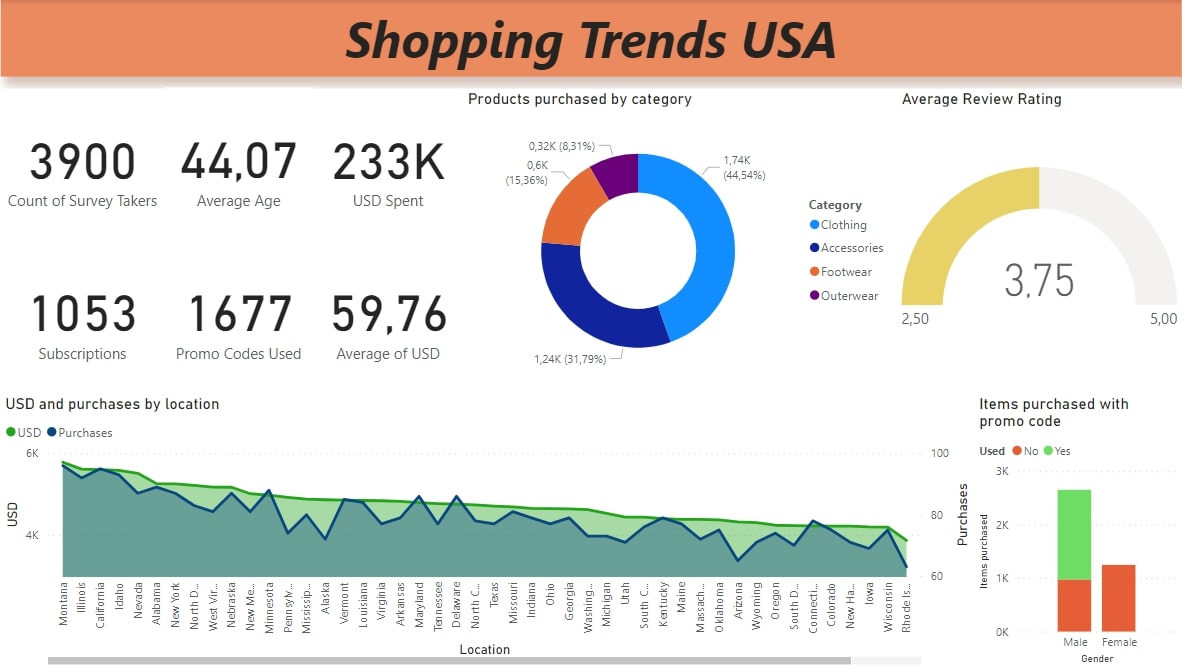

What the dashboard file says about the page in this screenshot:
{"tool":"powerbi","page":{"name":"Página 1","canvas":[1280,720],"ordinal":0},"visuals":[{"type":"textbox","box":[9.6,0,1270.7,82.3],"z":0},{"type":"card","fields":{"Values":["CountNonNull(shopping_trends_updated.Customer ID)"]},"box":[9.4,95.5,176.2,164.1],"z":1000},{"type":"card","fields":{"Values":["Avg(shopping_trends_updated.Age)"]},"box":[185.6,94.1,160,165.4],"z":2000},{"type":"card","fields":{"Values":["Sum(shopping_trends_updated.Purchase Amount (USD))"]},"box":[345.6,95.5,161.4,164.1],"z":3000},{"type":"donutChart","title":"Products purchased by category","fields":{"Category":["shopping_trends_updated.Category"],"Y":["CountNonNull(shopping_trends_updated.Category)"]},"box":[507,95.5,466.7,328.1],"z":4000},{"type":"gauge","title":"Average Review Rating","fields":{"Y":["Avg(shopping_trends_updated.Review Rating)"],"MinValue":["Min(shopping_trends_updated.Review Rating)1"],"MaxValue":["Max(shopping_trends_updated.Review Rating)2"]},"box":[973.7,95.5,306.6,328.1],"z":5000},{"type":"columnChart","title":"Items purchased with promo code","fields":{"Category":["shopping_trends_updated.Gender"],"Y":["CountNonNull(shopping_trends_updated.Item Purchased)"],"Series":["shopping_trends_updated.Promo Code Used"]},"box":[1057,423.6,223.2,295.9],"z":6000},{"type":"card","fields":{"Values":["Sum(shopping_trends_updated.Subscription Status Binary)"]},"box":[9.4,259.6,176.2,164.1],"z":7003},{"type":"card","fields":{"Values":["Sum(shopping_trends_updated.Promo Code Used Binary)"]},"box":[185.6,259.6,160,164.1],"z":7004},{"type":"card","fields":{"Values":["Avg(shopping_trends_updated.Purchase Amount (USD))"]},"box":[345.6,259.6,161.4,164.1],"z":7005},{"type":"areaChart","title":"USD and purchases by location","fields":{"Category":["shopping_trends_updated.Location"],"Y":["Sum(shopping_trends_updated.Purchase Amount (USD))"],"Y2":["CountNonNull(shopping_trends_updated.Location)"]},"box":[9.4,423.6,1047.6,295.9],"z":7006}]}

Visuals, with their boxes in screenshot pixels (x1, y1, x2, y2), scaled from the page's 1280x720 canvas onto the 1182x665 screenshot:
textbox: (x1=9, y1=0, x2=1181, y2=76)
card - CountNonNull(shopping_trends_updated.Customer ID): (x1=9, y1=88, x2=171, y2=240)
card - Avg(shopping_trends_updated.Age): (x1=171, y1=87, x2=319, y2=240)
card - Sum(shopping_trends_updated.Purchase Amount (USD)): (x1=319, y1=88, x2=468, y2=240)
"Products purchased by category" donutChart: (x1=468, y1=88, x2=899, y2=391)
"Average Review Rating" gauge: (x1=899, y1=88, x2=1181, y2=391)
"Items purchased with promo code" columnChart: (x1=976, y1=391, x2=1181, y2=664)
card - Sum(shopping_trends_updated.Subscription Status Binary): (x1=9, y1=240, x2=171, y2=391)
card - Sum(shopping_trends_updated.Promo Code Used Binary): (x1=171, y1=240, x2=319, y2=391)
card - Avg(shopping_trends_updated.Purchase Amount (USD)): (x1=319, y1=240, x2=468, y2=391)
"USD and purchases by location" areaChart: (x1=9, y1=391, x2=976, y2=664)
